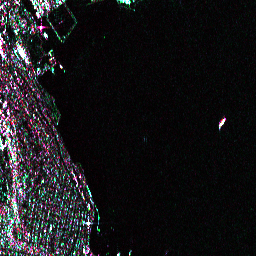ship: (216, 116, 228, 130)
